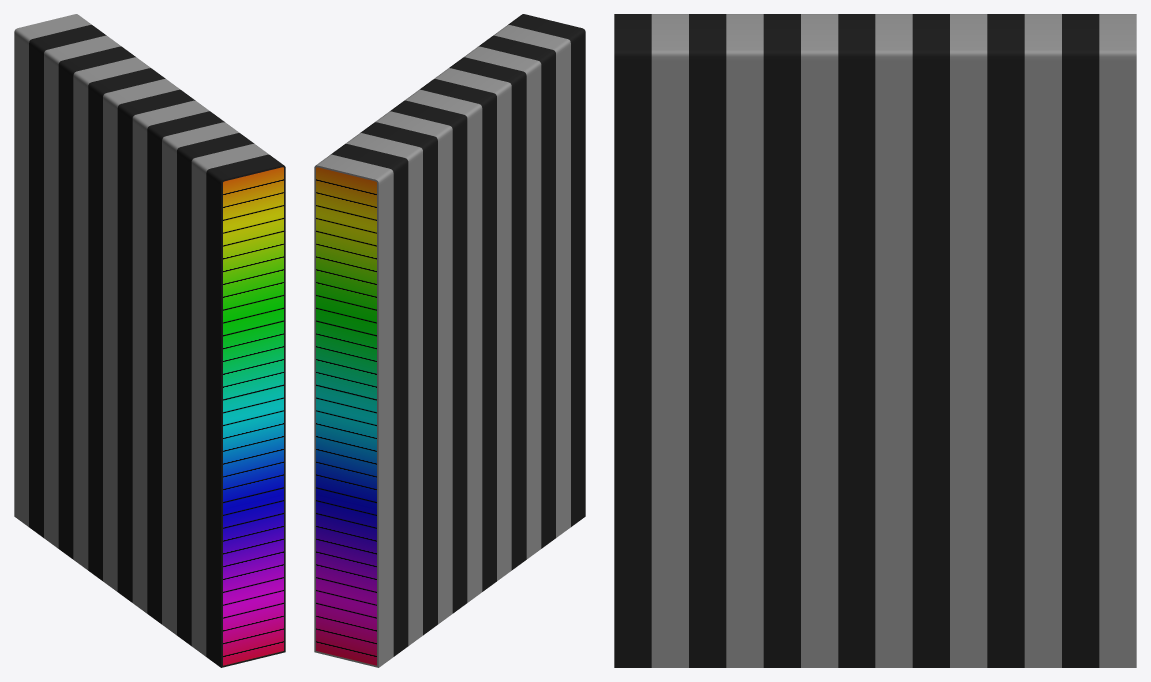
The model's file is VerticalPlatform.fbx.
The picture shows the model from 3 angles, left to right: view 1: azimuth 30°, elevation 25°; view 2: azimuth 150°, elevation 25°; view 3: azimuth 270°, elevation 25°; orthographic projection. The views are drawn at different scales.
Visible parts, largest first — view 1: Box003; view 2: Box003; view 3: Box003.
Boxes of the visible parts, bbox=[...] form: Box003: bbox=[14, 14, 285, 667]; Box003: bbox=[314, 14, 585, 667]; Box003: bbox=[614, 14, 1136, 667].
Size of the model in its own units: 90 by 500 by 650.
Materials: 3 (1 with a texture image).
